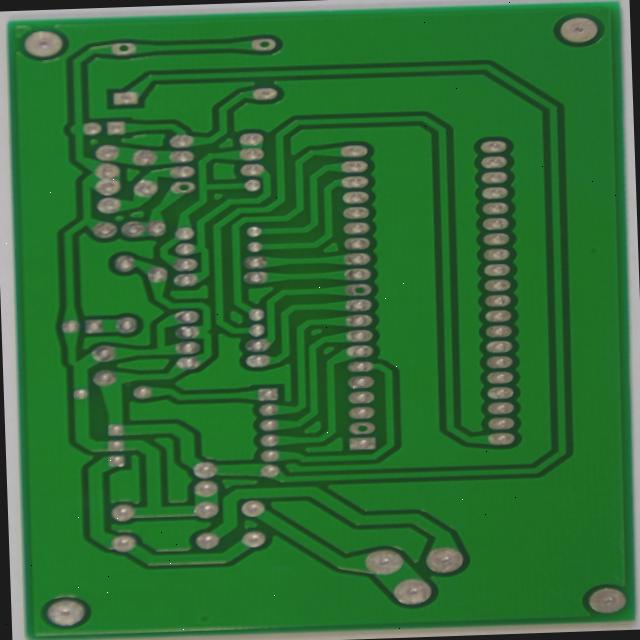missing_hole: (410, 247, 448, 270), (411, 397, 451, 418), (197, 139, 235, 160)
